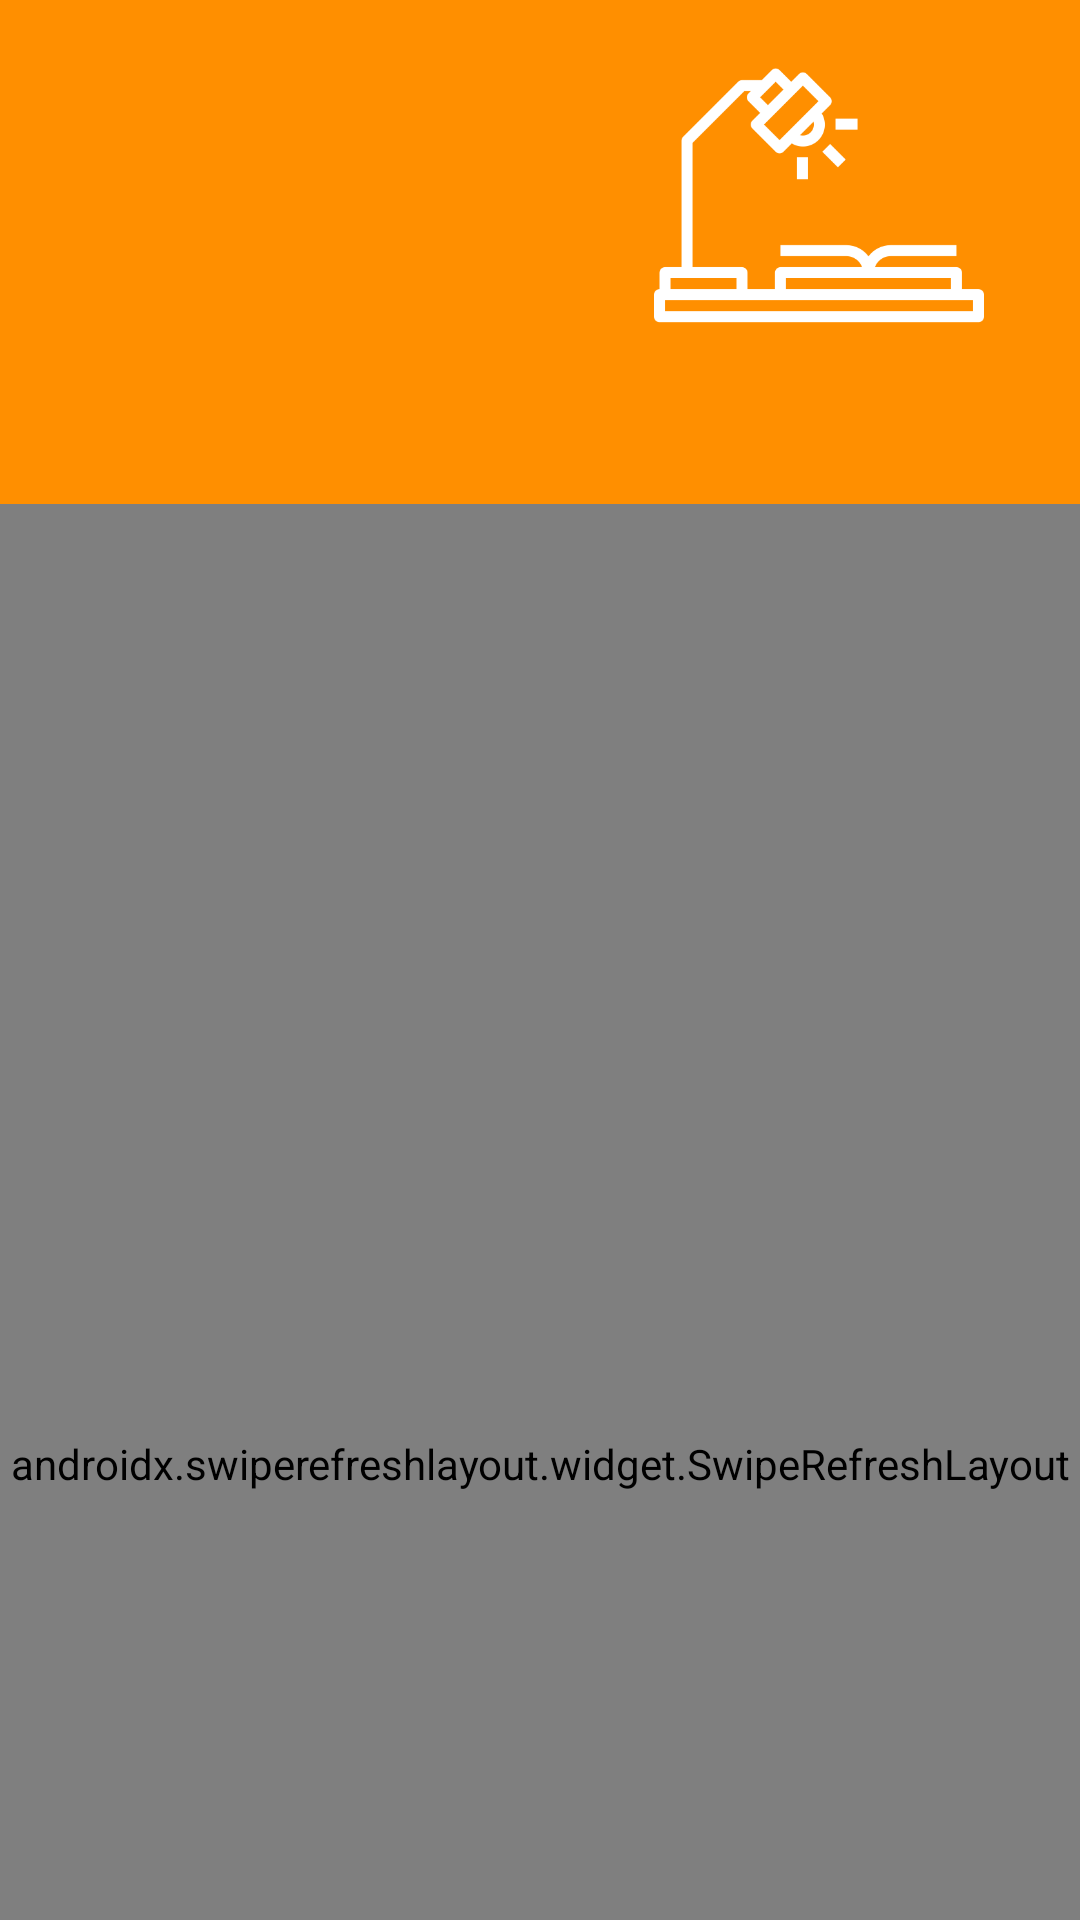

Icon bounding boxes for this 1080 × 1920 phone screenshot, format box=[x1, y1, x2, y2]:
Reading image: box=[654, 68, 984, 323]
